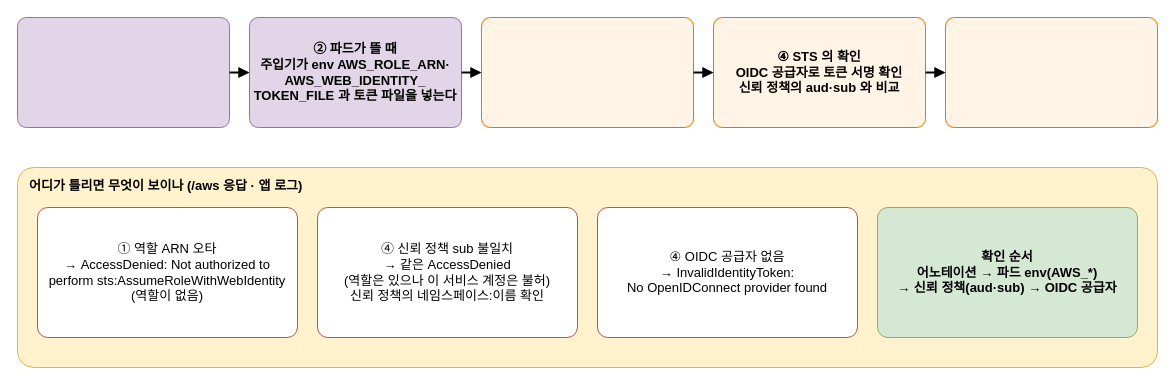
Some shapes in this 1175 by 385 pixel diagram are drawn without their labels. Each missing label, with the centre of its shape:
"① 서비스 계정 어노테이션 eks.amazonaws.com/role-arn = 빌릴 역할의 ARN" belongs at point (123, 72).
"③ 앱 → STS AssumeRoleWithWebIdentity (역할 ARN + 토큰)" belongs at point (587, 72).
"⑤ 임시 자격증명 1시간짜리 키 → /aws 가 assumed-role/<역할> 표시" belongs at point (1051, 72).
